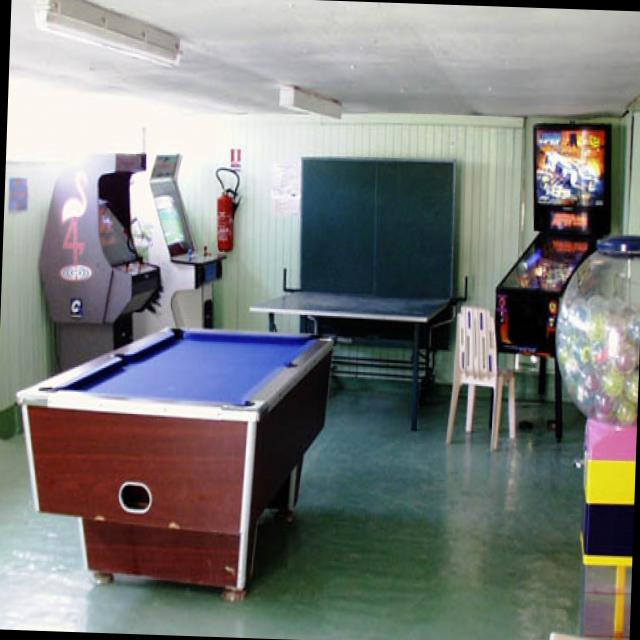billard table: (15, 323, 333, 597)
ceiling beam: (8, 0, 640, 115)
chair -occluded-: (443, 306, 514, 448)
fire extinguisher: (215, 186, 237, 247)
flask occluded: (555, 235, 640, 424)
floor -X: (0, 368, 631, 640)
lamp crop: (32, 0, 179, 66), (278, 82, 341, 116)
pinball: (489, 120, 610, 438)
slot machines crop: (36, 150, 159, 367), (128, 149, 226, 337)
table top kitchen: (244, 156, 453, 427)
wall clock: (179, 108, 615, 400), (0, 73, 180, 440), (601, 104, 640, 508)
